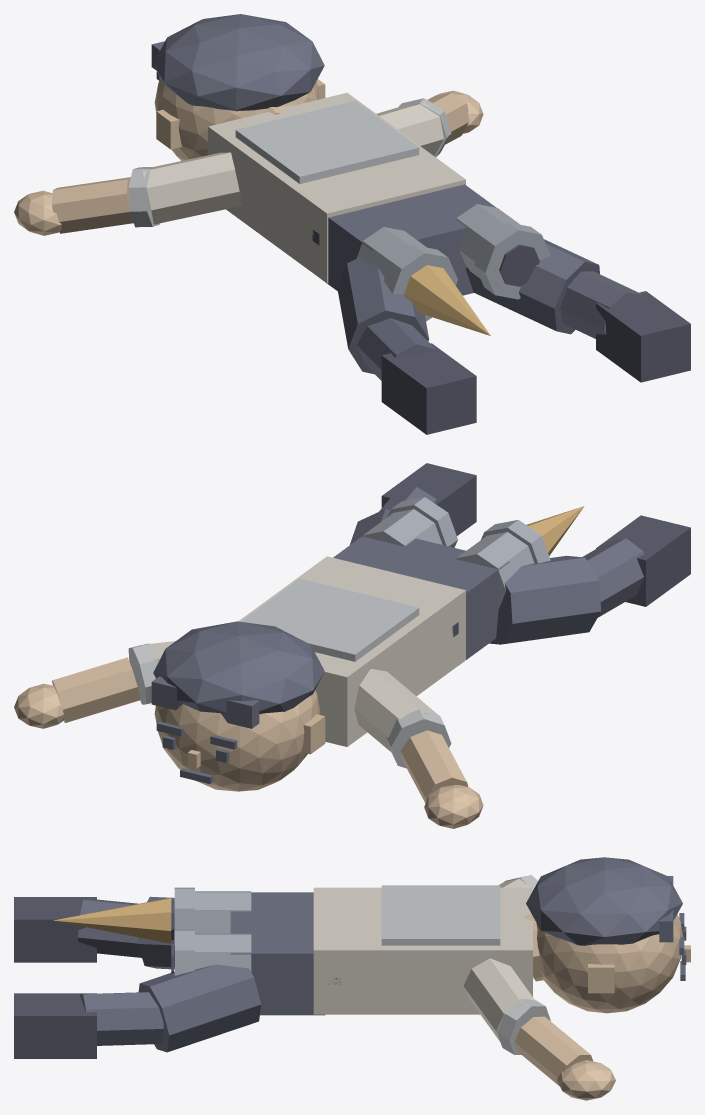
File: character_flying_left_thrust.glb
3 renders of one model, top to bottom at view 1: azimuth 30°, elevation 25°; view 2: azimuth 150°, elevation 25°; view 3: azimuth 270°, elevation 25°, orthographic. The views are drawn at different scales.
Parts seen in each view (by area): view 1: 000_shirt_torso, 006_hair_cap, 001_rolled_shirt_back, 002_waist_pants, 023_shoe_-1, 035_shoe_1, 017_upper_sleeve_-1, 021_upper_leg_-1, 033_upper_leg_1, 019_forearm_-1, 005_head, 034_lower_leg_1 (+12 smaller); view 2: 000_shirt_torso, 006_hair_cap, 005_head, 001_rolled_shirt_back, 021_upper_leg_-1, 002_waist_pants, 023_shoe_-1, 031_forearm_1, 017_upper_sleeve_-1, 035_shoe_1, 022_lower_leg_-1, 019_forearm_-1 (+12 smaller); view 3: 000_shirt_torso, 006_hair_cap, 002_waist_pants, 005_head, 001_rolled_shirt_back, 033_upper_leg_1, 035_shoe_1, 023_shoe_-1, 034_lower_leg_1, 029_upper_sleeve_1, 027_exhaust_orange_-1, 031_forearm_1 (+11 smaller).
Boxes of the visible parts, x1,y1,x2,y2 form: 000_shirt_torso: (208, 92, 465, 283); 006_hair_cap: (153, 14, 324, 111); 001_rolled_shirt_back: (235, 101, 419, 183); 002_waist_pants: (327, 184, 495, 295); 023_shoe_-1: (381, 343, 476, 434); 035_shoe_1: (596, 291, 690, 382); 017_upper_sleeve_-1: (142, 152, 242, 224); 021_upper_leg_-1: (337, 258, 429, 374); 033_upper_leg_1: (466, 239, 599, 334); 019_forearm_-1: (52, 177, 133, 233); 005_head: (154, 78, 319, 160); 034_lower_leg_1: (560, 271, 644, 338); 000_shirt_torso: (238, 556, 465, 746); 006_hair_cap: (153, 621, 324, 714); 005_head: (154, 689, 320, 791); 001_rolled_shirt_back: (241, 578, 419, 661); 021_upper_leg_-1: (489, 555, 600, 644); 002_waist_pants: (333, 536, 509, 659); 023_shoe_-1: (596, 515, 690, 606); 031_forearm_1: (52, 657, 140, 722); 017_upper_sleeve_-1: (354, 669, 437, 752); 035_shoe_1: (381, 463, 476, 535); 022_lower_leg_-1: (582, 538, 644, 617); 019_forearm_-1: (400, 730, 468, 803); 000_shirt_torso: (313, 887, 532, 1014); 006_hair_cap: (526, 857, 682, 945); 002_waist_pants: (230, 892, 324, 1015); 005_head: (536, 914, 682, 1013); 001_rolled_shirt_back: (381, 885, 500, 945); 033_upper_leg_1: (138, 964, 261, 1052); 035_shoe_1: (14, 993, 96, 1058); 023_shoe_-1: (14, 897, 96, 962); 034_lower_leg_1: (79, 992, 163, 1045); 029_upper_sleeve_1: (463, 958, 534, 1041); 027_exhaust_orange_-1: (53, 897, 171, 943); 031_forearm_1: (514, 1016, 592, 1086).
Size of the model in its own units: 1.65 by 0.5171 by 2.28.
